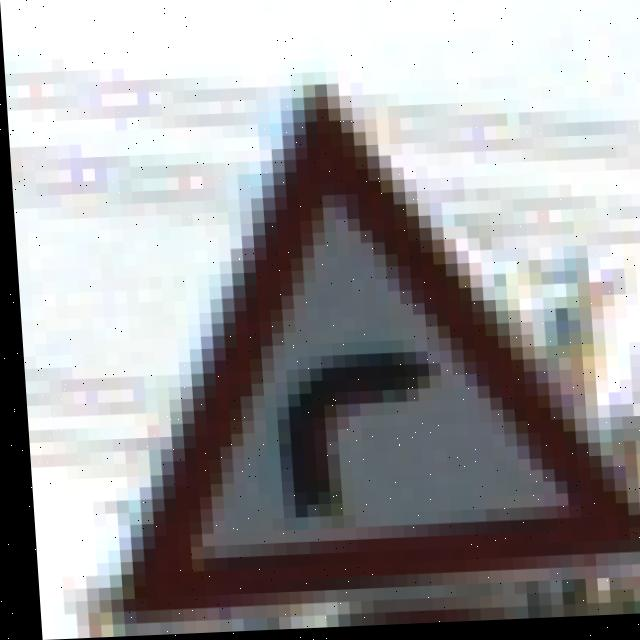right_turn: (84, 102, 640, 586)
